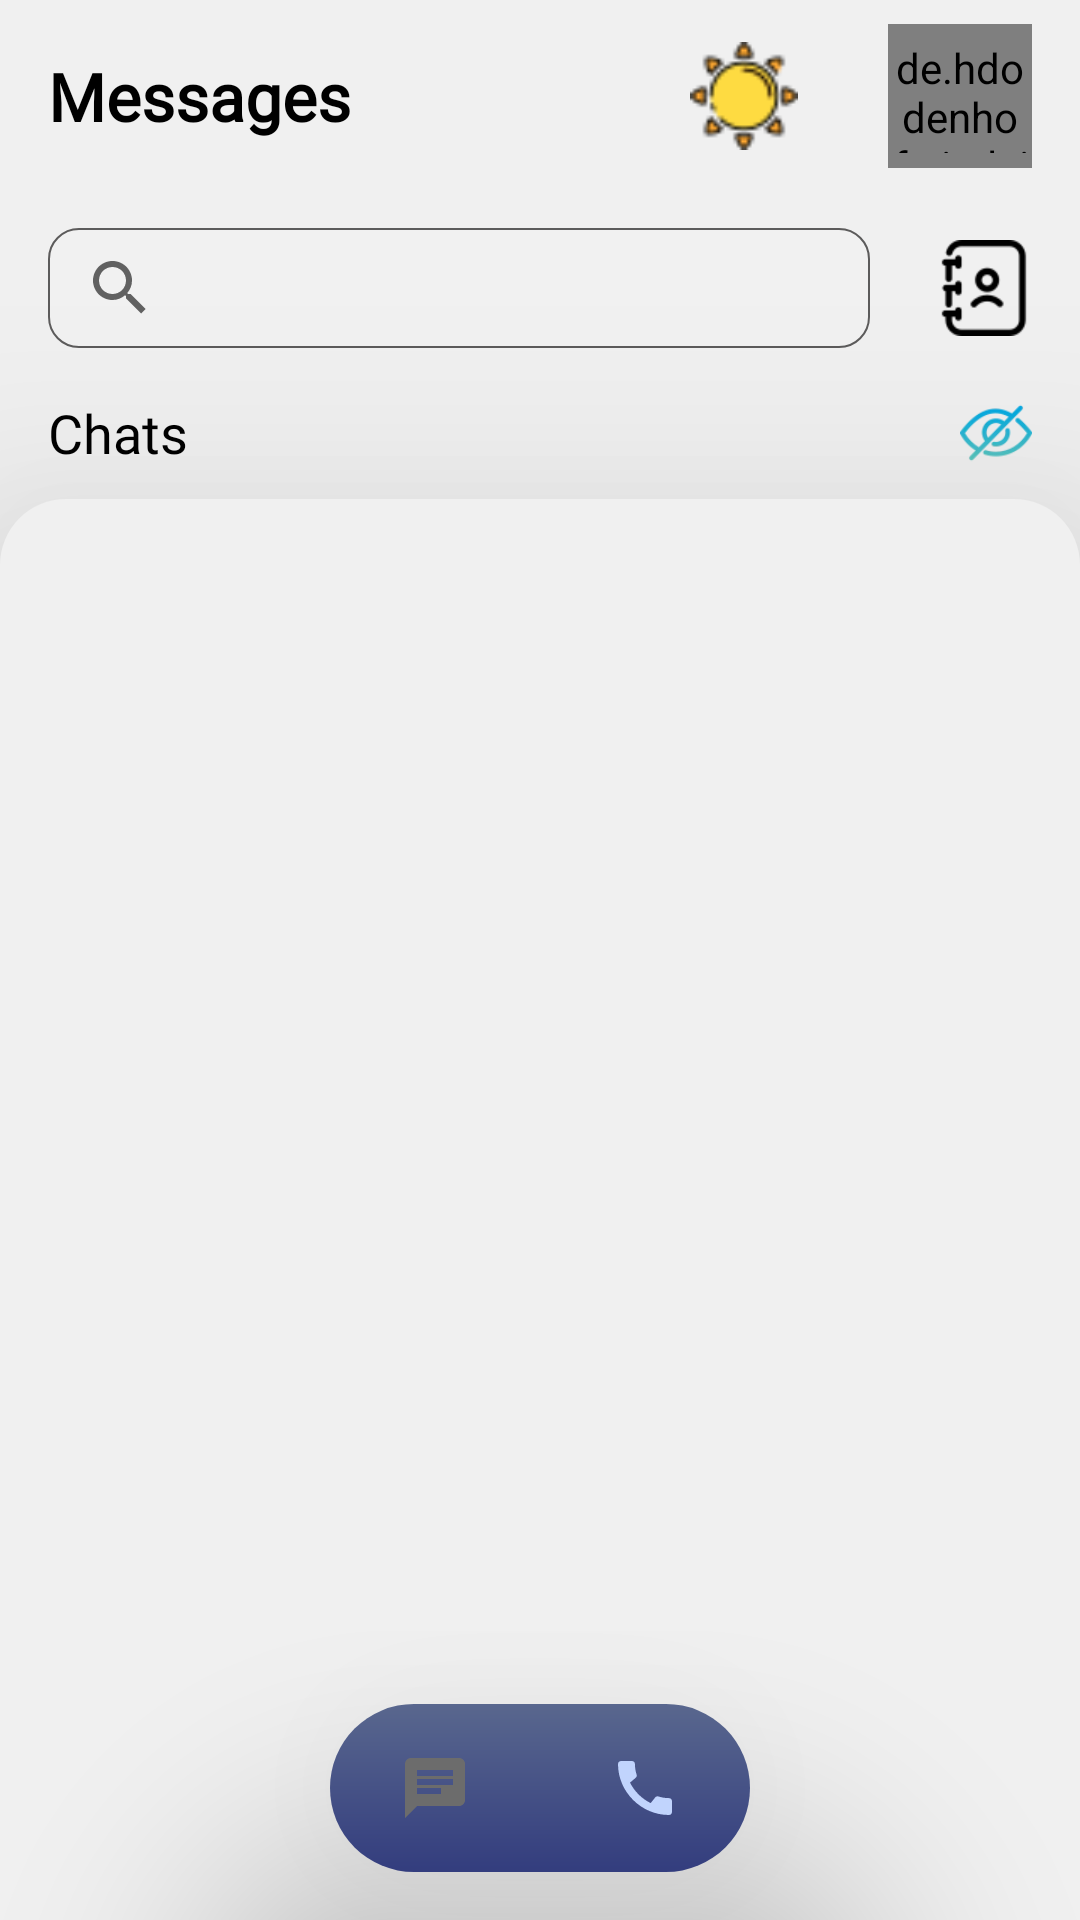

Where to tap for icons on this 1080 x 1920 app screen, as (x=x, y=y):
hidden: (x=996, y=433)
sun: (x=744, y=96)
